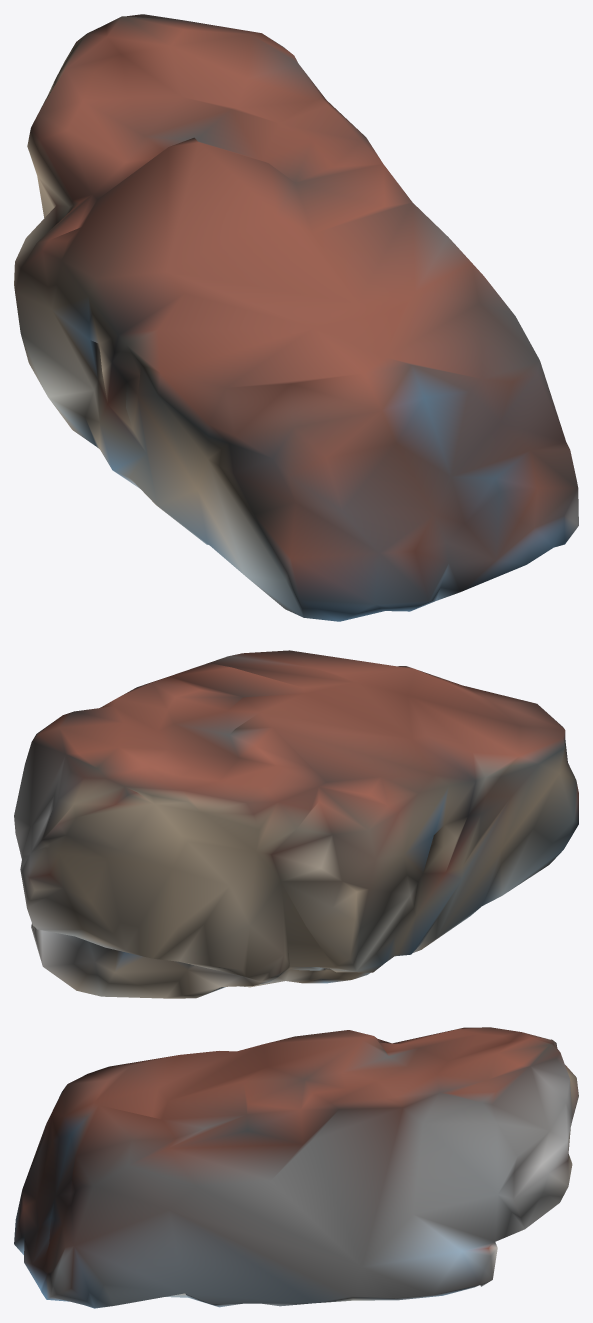
File: rock_07.lod1.glb
The picture shows the model from 3 angles, top to bottom: view 1: azimuth 30°, elevation 25°; view 2: azimuth 150°, elevation 25°; view 3: azimuth 270°, elevation 25°; orthographic projection. The views are drawn at different scales.
Visible parts, largest first — view 1: rock_07; view 2: rock_07; view 3: rock_07.
Part boxes in pixels (box(x1,y1,x2,y2)): rock_07: box(14, 14, 578, 621); rock_07: box(14, 650, 578, 998); rock_07: box(14, 1027, 578, 1308).
Bounding box in the file's own units: 0.1675 × 0.1434 × 0.3194.
